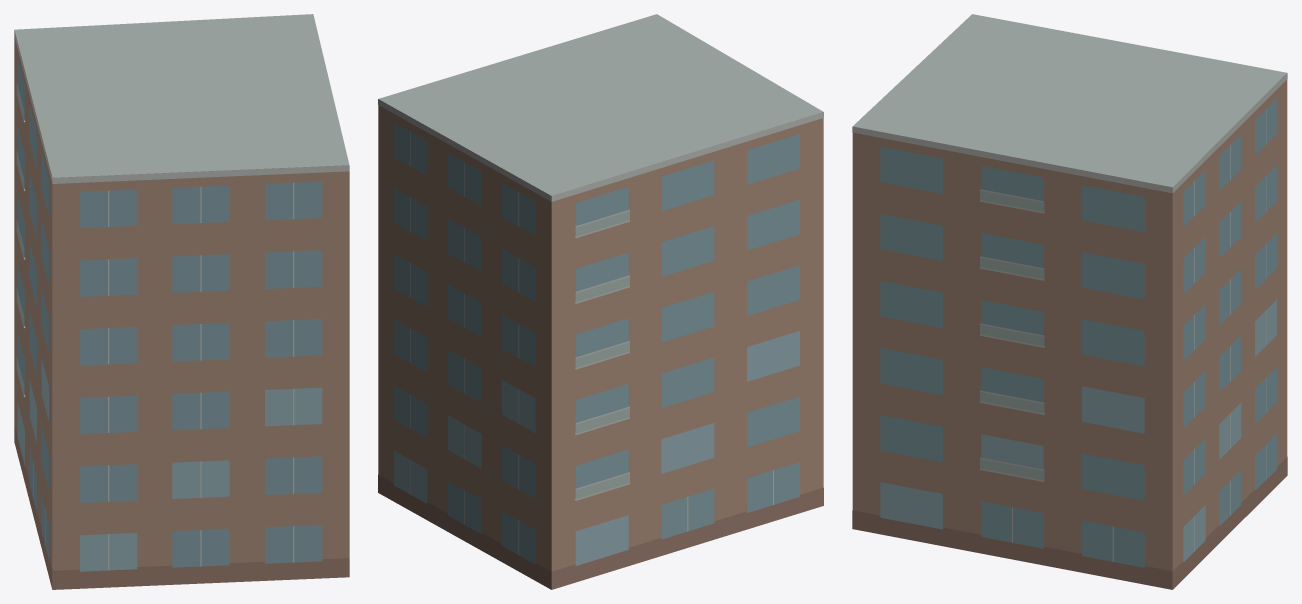
File: survey-upis-32532372.glb
3 views of the same model, side by side, from view 1: azimuth 30°, elevation 25°; view 2: azimuth 150°, elevation 25°; view 3: azimuth 270°, elevation 25° (orthographic). The views are drawn at different scales.
Visible parts, largest first — view 1: survey-upis-32532372.tmp; view 2: survey-upis-32532372.tmp; view 3: survey-upis-32532372.tmp.
Part boxes in pixels (box(x1,y1,x2,y2)): survey-upis-32532372.tmp: box(14, 14, 349, 589); survey-upis-32532372.tmp: box(378, 14, 823, 589); survey-upis-32532372.tmp: box(852, 14, 1287, 589).
Size of the model in its own units: 14.97 by 16.2 by 15.87.
